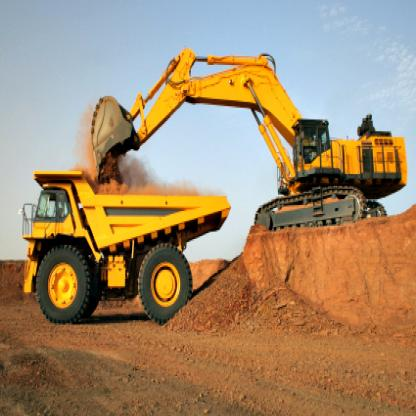dump_truck: (17, 164, 232, 345)
excavator: (85, 18, 413, 248), (91, 35, 214, 186)
